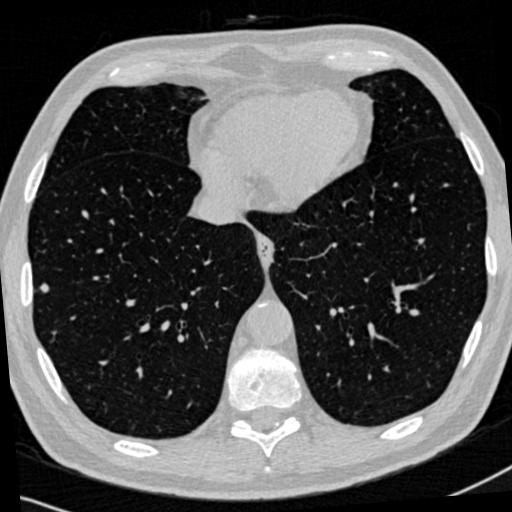nodule: (38, 281, 52, 295)
